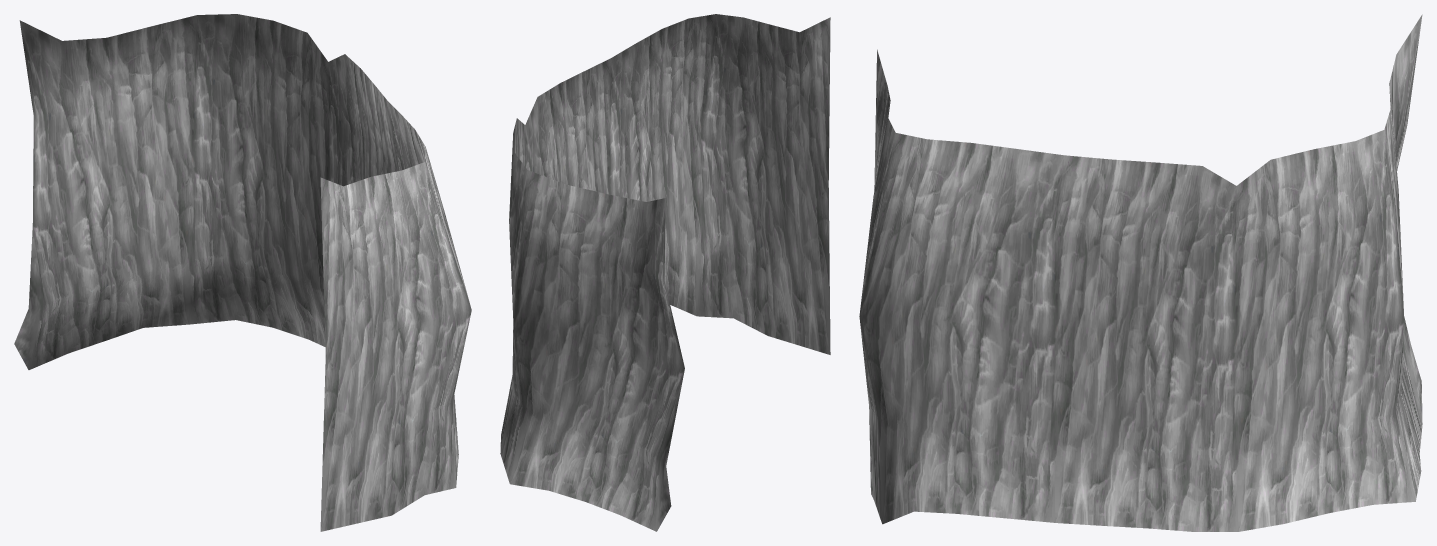
File: SWORDLIGHT20_PS-AREA03_177.fbx
3 views of the same model, side by side, from view 1: azimuth 30°, elevation 25°; view 2: azimuth 150°, elevation 25°; view 3: azimuth 270°, elevation 25° (orthographic). The views are drawn at different scales.
Visible parts, largest first — view 1: SWORDLIGHT20_PS-AREA03_177; view 2: SWORDLIGHT20_PS-AREA03_177; view 3: SWORDLIGHT20_PS-AREA03_177.
Boxes of the visible parts, x1,y1,x2,y2 form: SWORDLIGHT20_PS-AREA03_177: [14, 14, 471, 531]; SWORDLIGHT20_PS-AREA03_177: [500, 14, 830, 531]; SWORDLIGHT20_PS-AREA03_177: [859, 14, 1422, 531].
Bounding box in the file's own units: 72775 × 99967 × 125026.
Materials: 2 (2 with a texture image).
